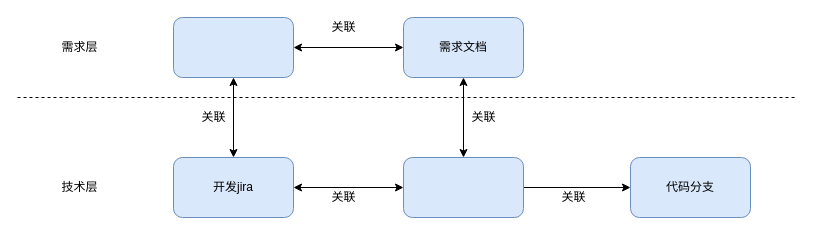
Image size: 816x235. Some labels were removed from this diagram. The shapes that lost their labels are listed below. From the top down, each one's centre as x and y in pixels, then its label:
(233,47): 需求jira
(463,187): 技术文档
